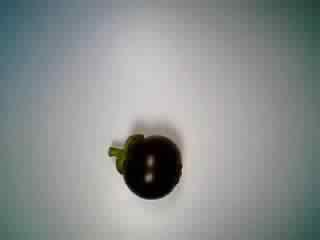mangosteen: (105, 131, 183, 204)
